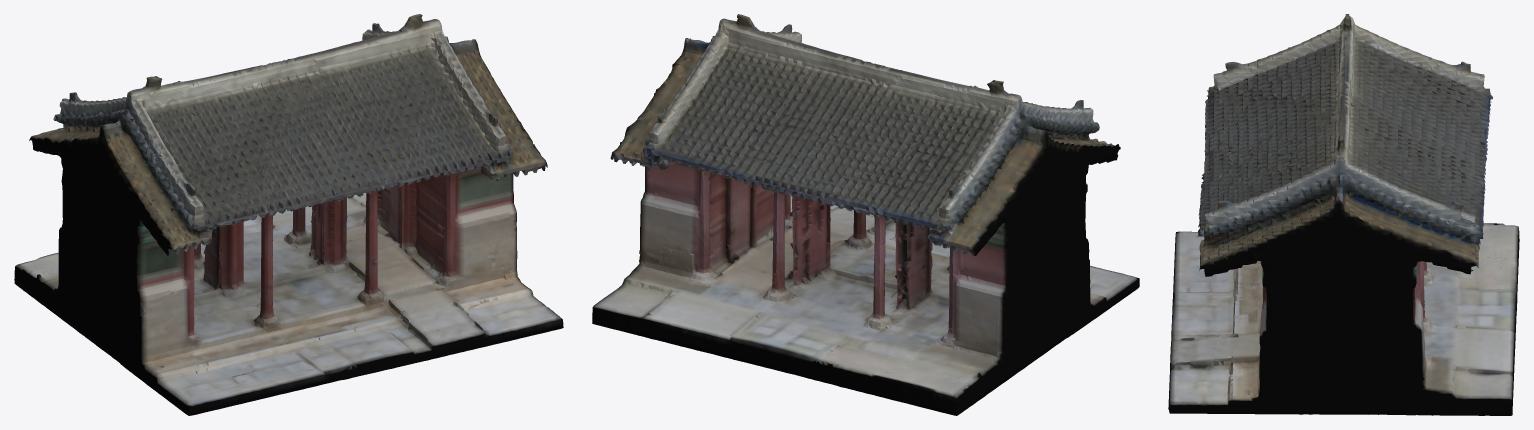
Rendered from sajeongmun.glb.
3 renders of one model, left to right at view 1: azimuth 30°, elevation 25°; view 2: azimuth 150°, elevation 25°; view 3: azimuth 270°, elevation 25°, orthographic. The views are drawn at different scales.
Bounding box in the file's own units: 1.01 × 0.6667 × 0.8502.
